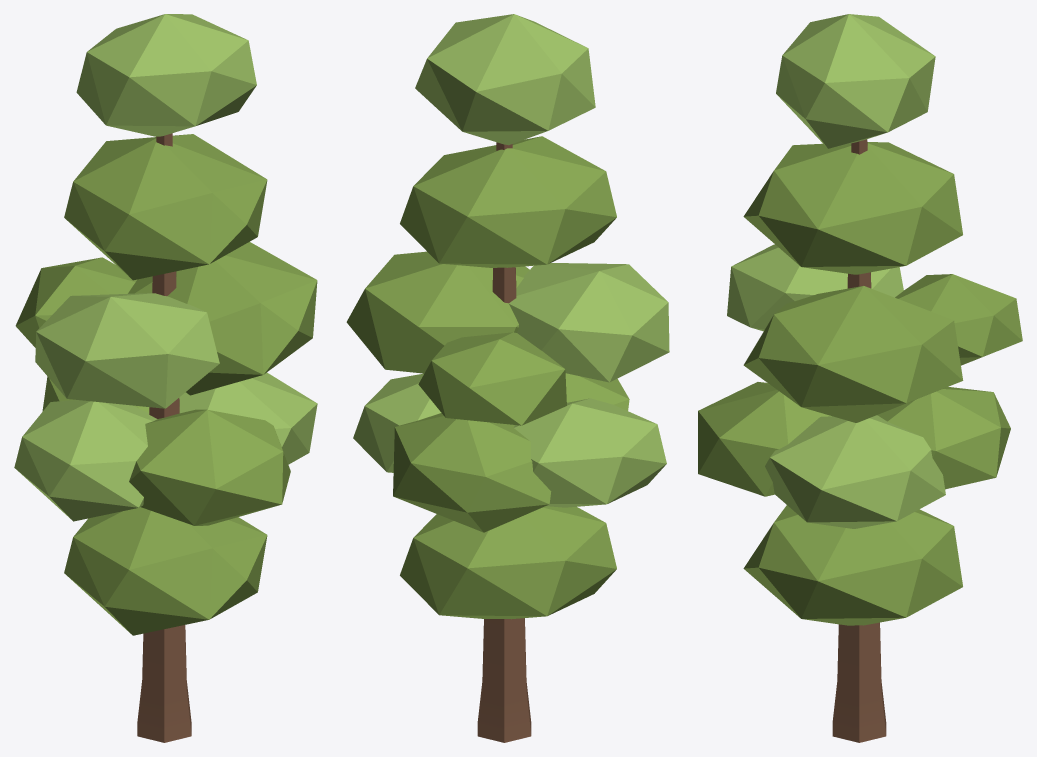
The model's file is japan_tree_2.fbx.
3 renders of one model, left to right at view 1: azimuth 30°, elevation 25°; view 2: azimuth 150°, elevation 25°; view 3: azimuth 270°, elevation 25°, orthographic.
Visible parts, largest first — view 1: japan_tree_2; view 2: japan_tree_2; view 3: japan_tree_2.
Part boxes in pixels (bbox=[...]): japan_tree_2: bbox=[14, 14, 317, 742]; japan_tree_2: bbox=[346, 14, 669, 742]; japan_tree_2: bbox=[698, 14, 1022, 742].
Bounding box in the file's own units: 215 × 536 × 221.
